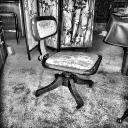chair_success: (25, 12, 105, 110)
